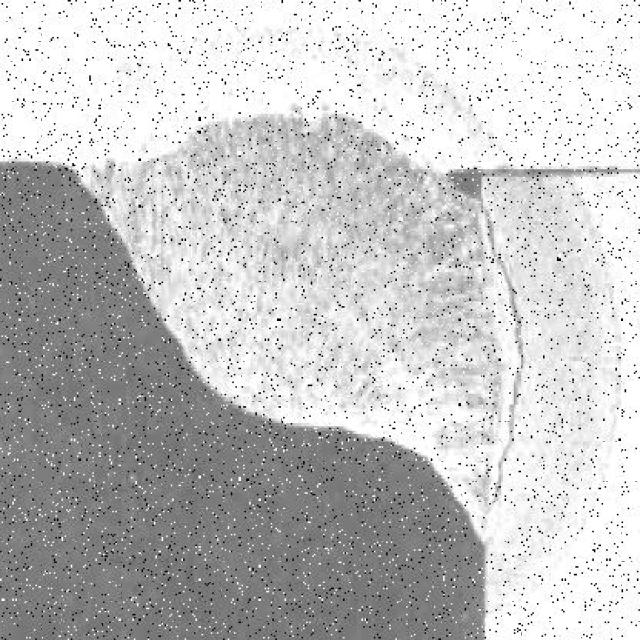Crack: (477, 213, 529, 522), (447, 147, 640, 206)
